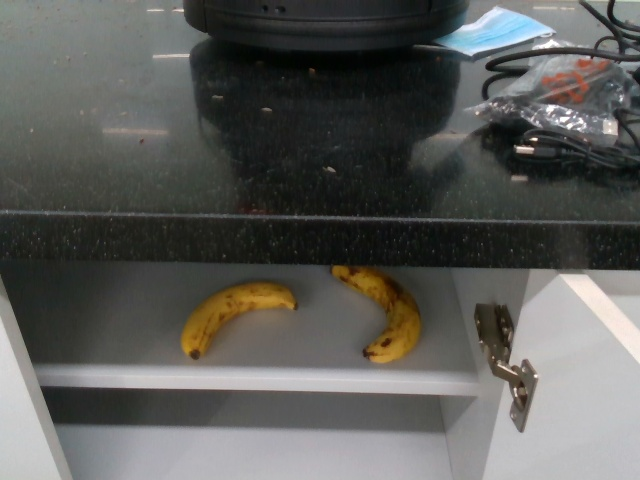banana: (175, 283, 299, 360), (327, 269, 423, 363)
